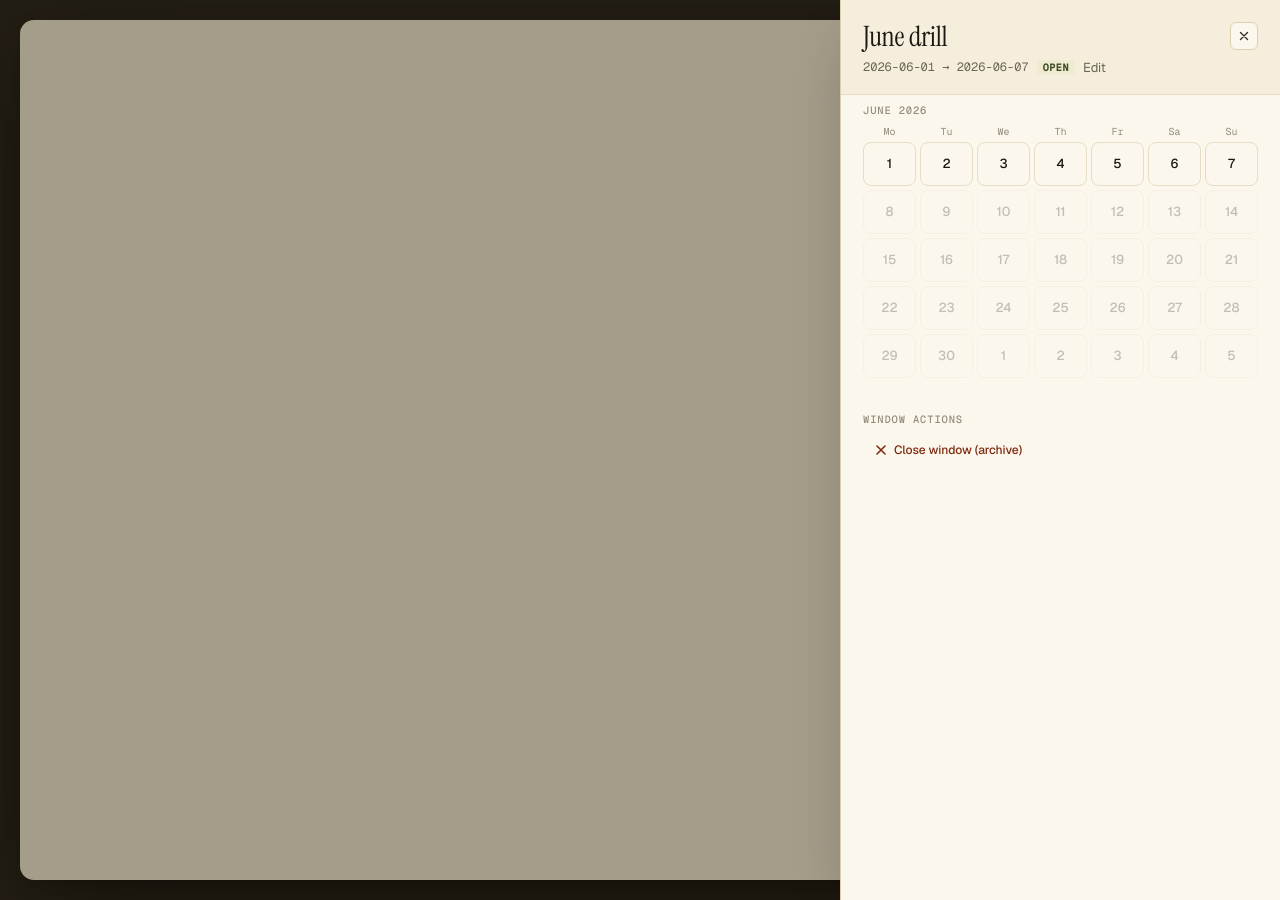
Test: DeploymentWindowDrawer › day cell with no pick opens the empty day panel ("Add as approved" affordance)
Click the 1st button "3": (1004, 164) left=977, top=142, right=1030, bottom=186
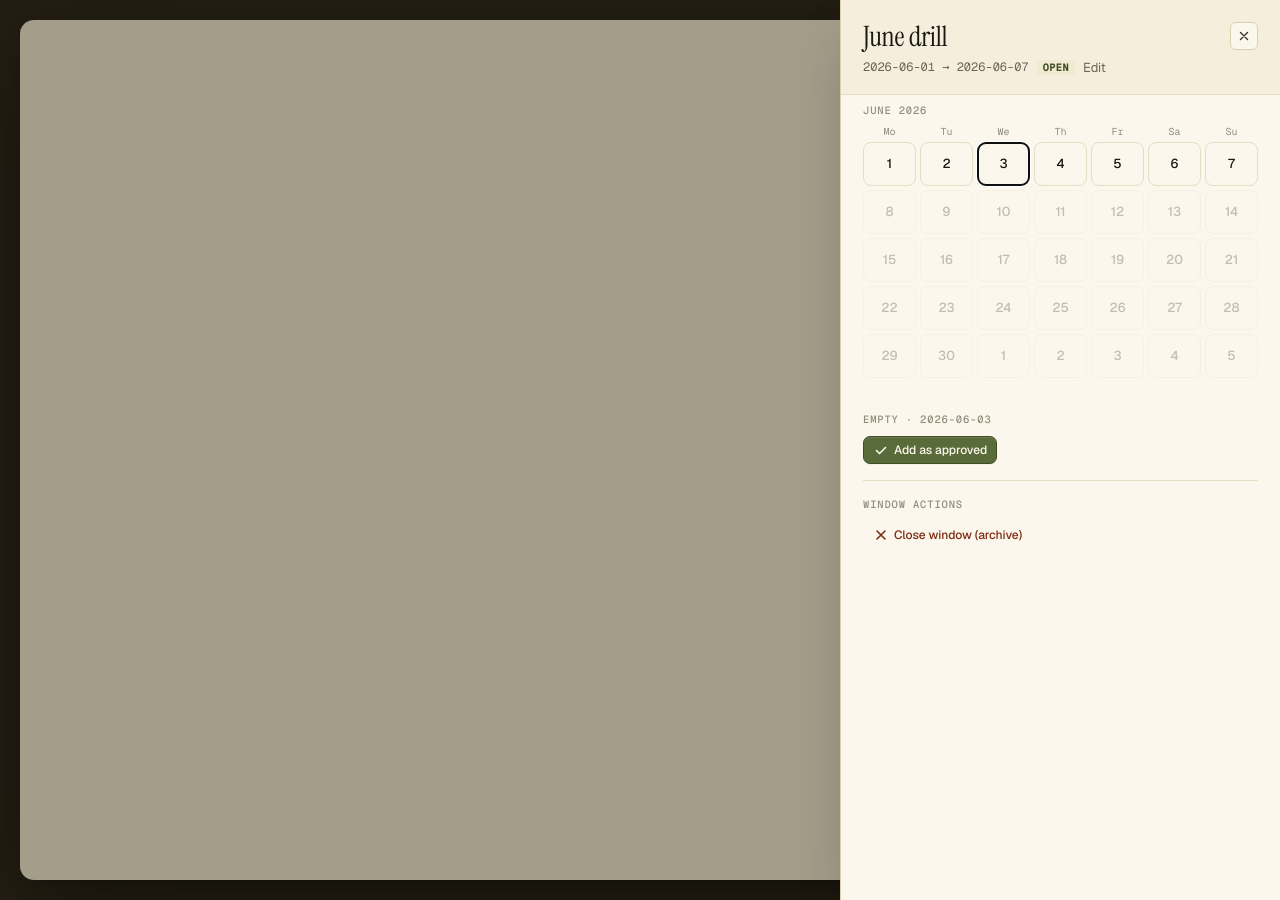
Result: the heading "Empty · 2026-06-03" is shown at left=863, top=412, right=992, bottom=426
Result: the button "Add as approved" is shown at left=863, top=436, right=997, bottom=464
